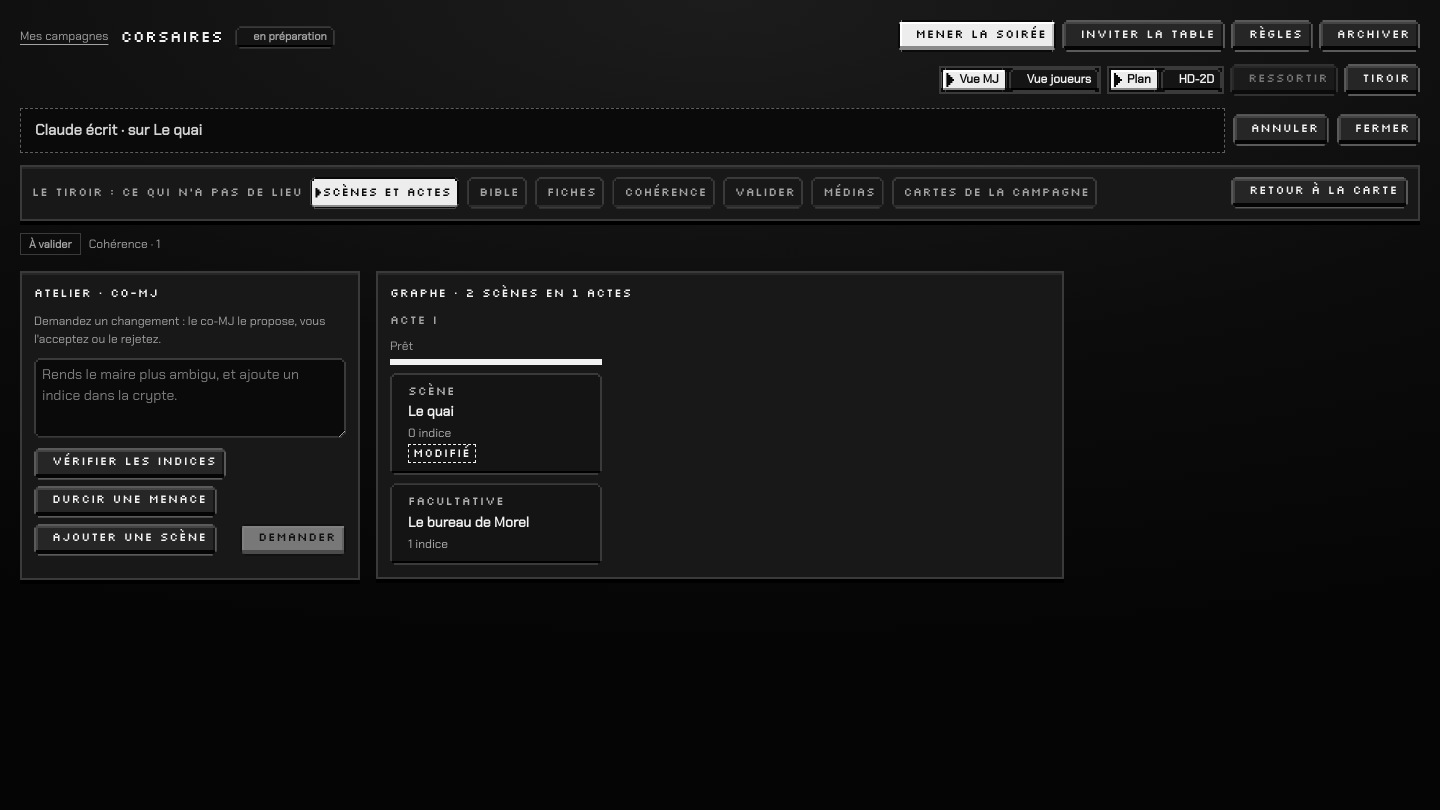
Test: PrepDesk, in the Atlas’s drawer › lights up what Claude wrote while the screen is open, and takes it back
Expected: the button "Scène Le quai 0 indice Modifié" is shown, [390,373,602,475]
Expected: the text "Claude écrit · sur Le quai" is shown, [35,119,202,142]
Click the button "Fiches".
click(570, 192)  # box [535,176,604,208]
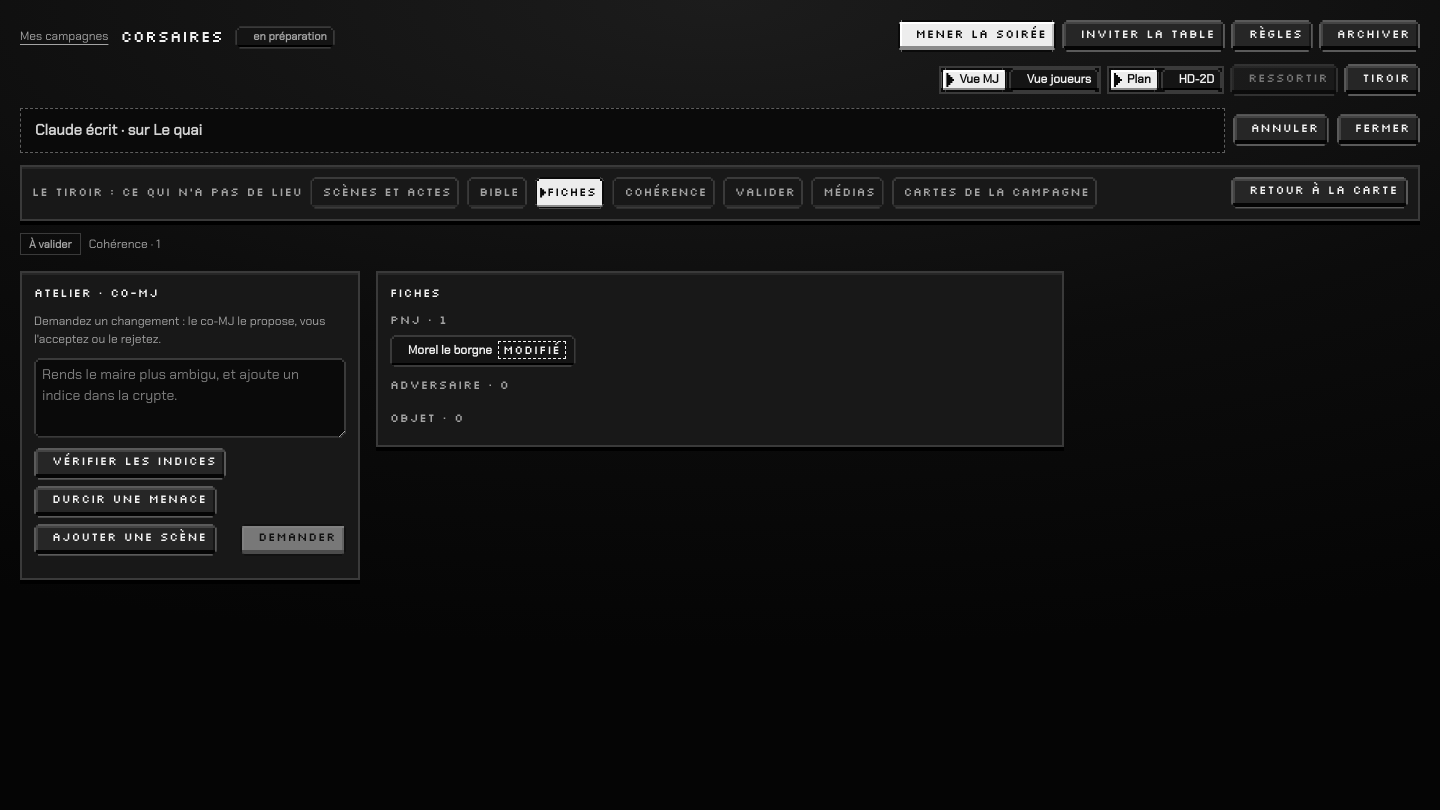
Expected: the text "Modifié" is shown, [498,341,566,359]
Click the button "Annuler".
click(1281, 130)  # box [1233,114,1329,146]
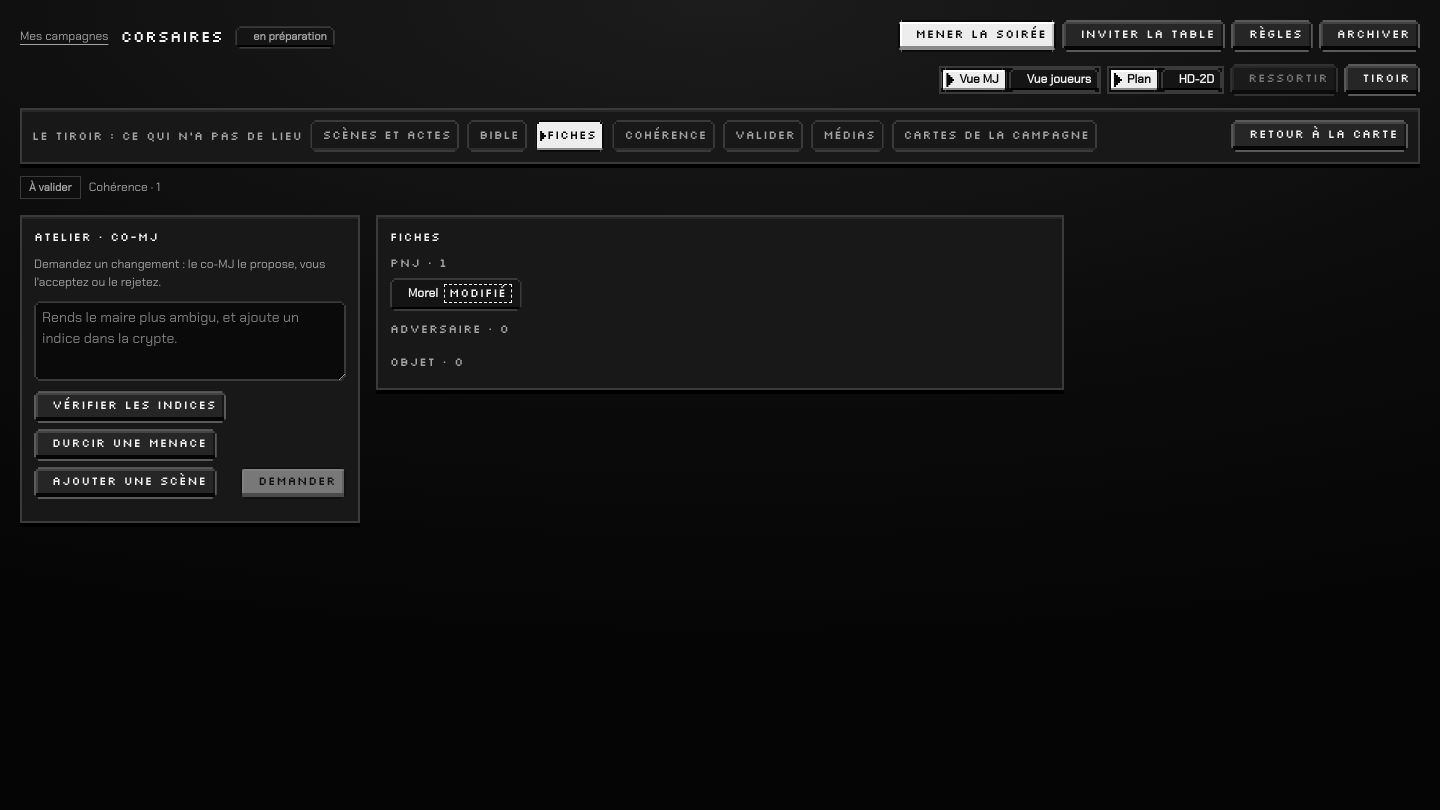
Expected: the button "Morel Modifié" is shown, [390,278,522,311]
Expected: the text "Claude" is gone
